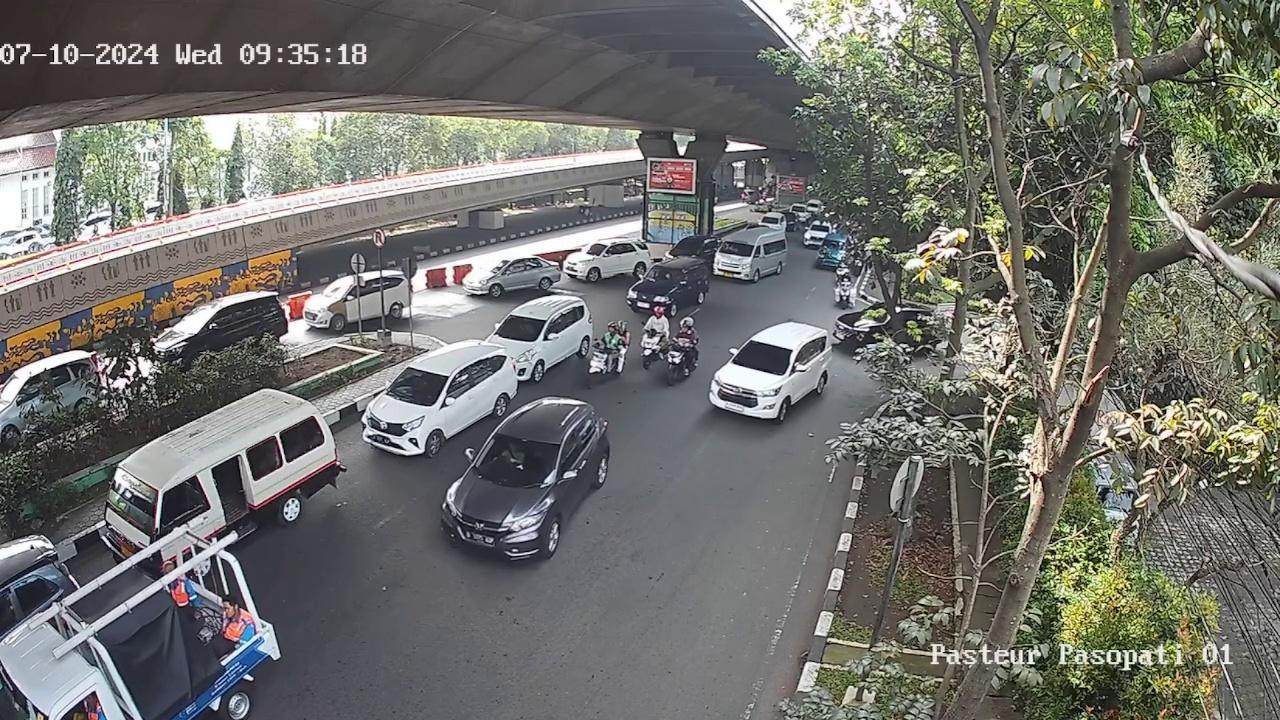pakai: (500, 442, 526, 467), (516, 319, 534, 336)
windshield: (476, 433, 561, 487), (103, 468, 160, 529), (386, 367, 446, 409), (733, 341, 792, 375), (497, 314, 545, 341), (644, 264, 680, 288)
